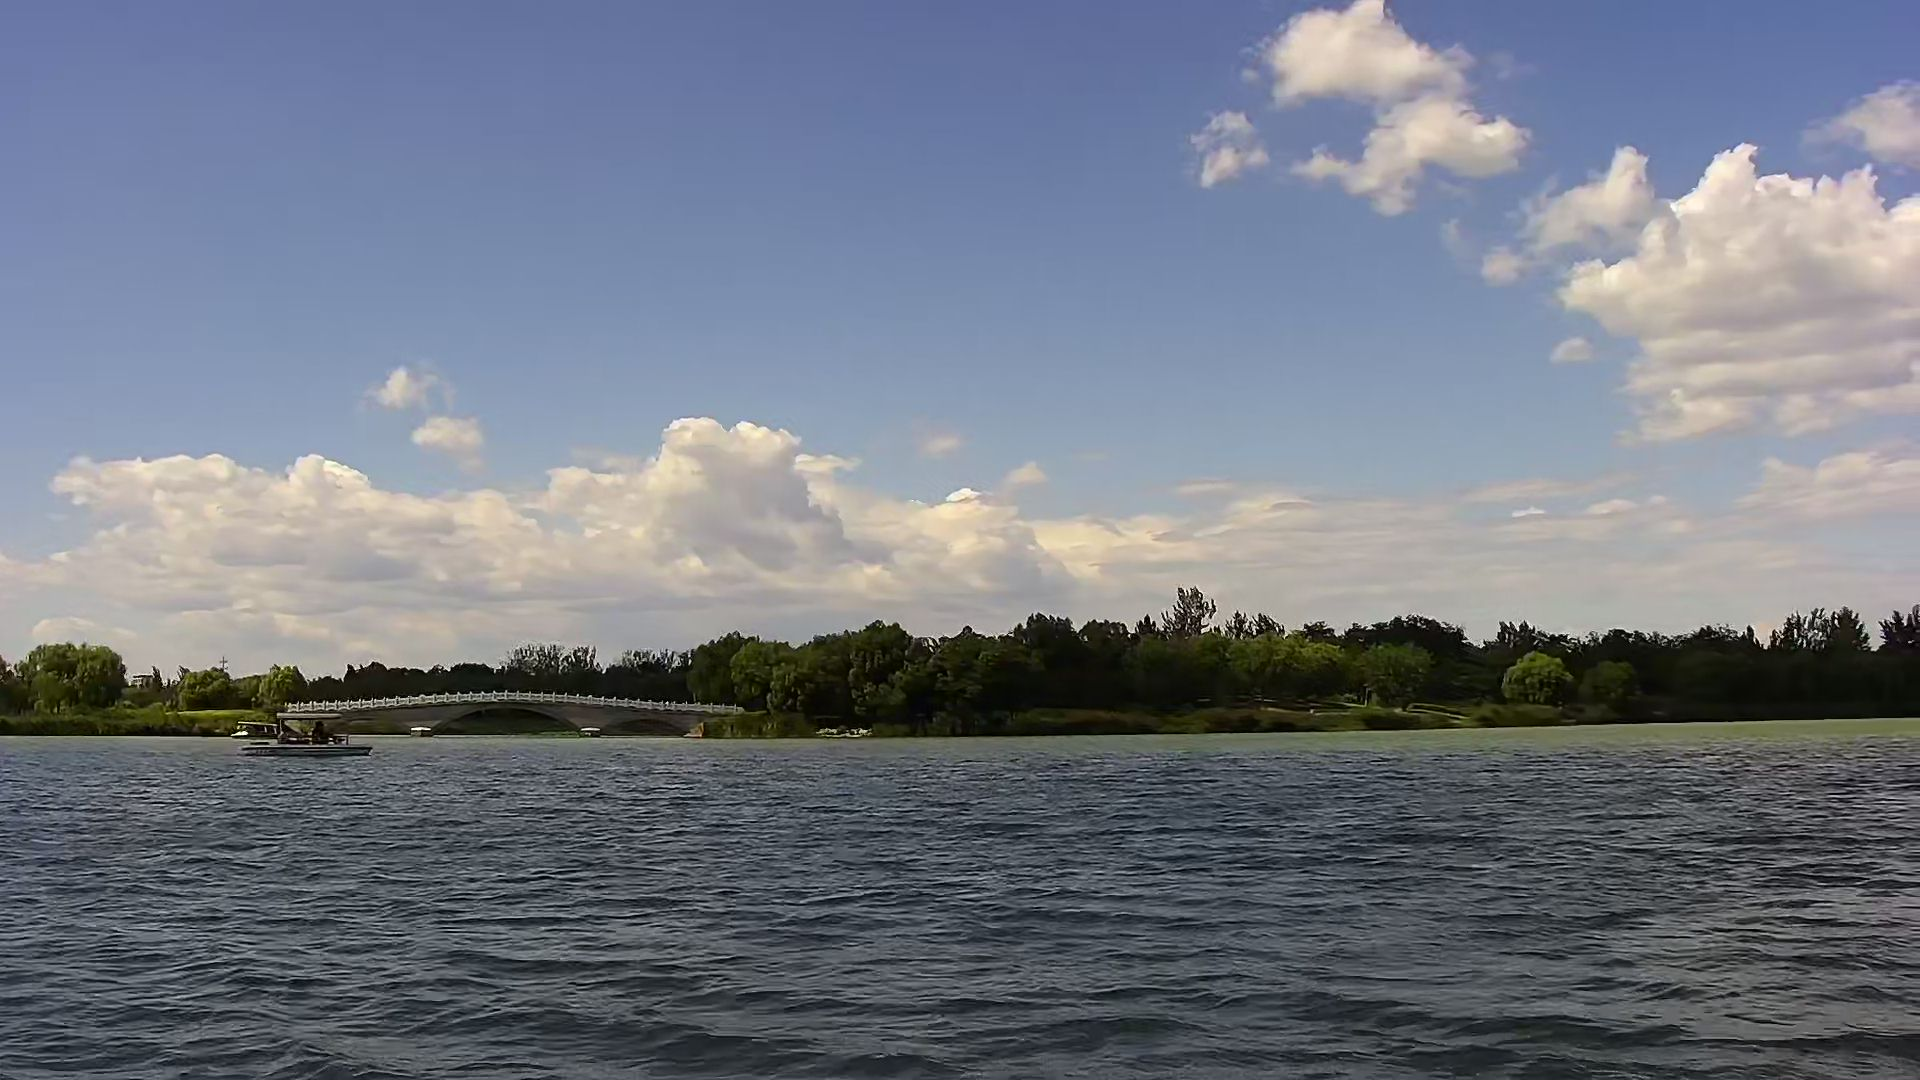bridge: (322, 694, 749, 741), (232, 717, 382, 757)
